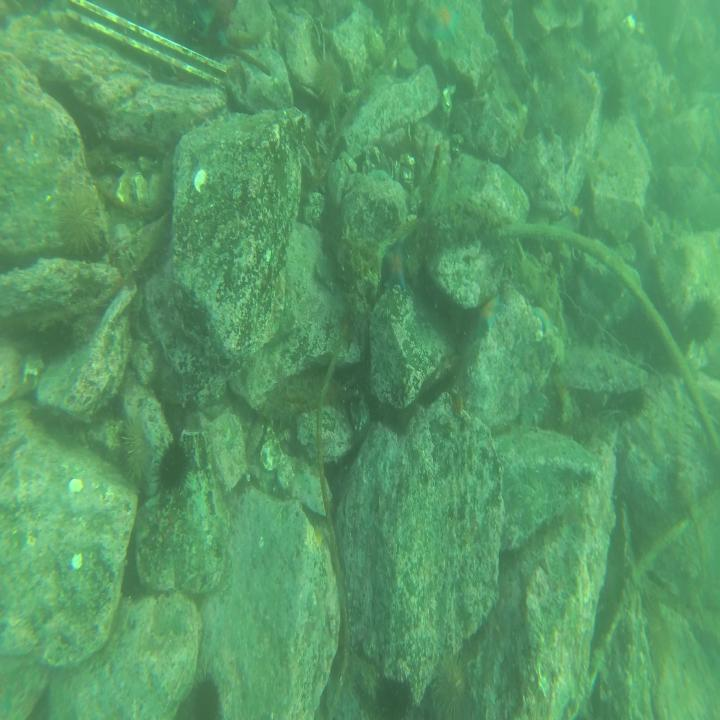echinus: (58, 186, 102, 260), (427, 649, 471, 720), (156, 427, 196, 500), (120, 415, 154, 493), (370, 671, 414, 720), (187, 668, 224, 720), (314, 54, 346, 114), (687, 293, 719, 349), (536, 32, 563, 80), (560, 97, 585, 140), (623, 382, 650, 421), (601, 82, 624, 124)
starfish: (426, 0, 462, 48), (474, 290, 506, 340), (197, 0, 231, 42), (384, 238, 411, 289), (532, 300, 553, 338)
